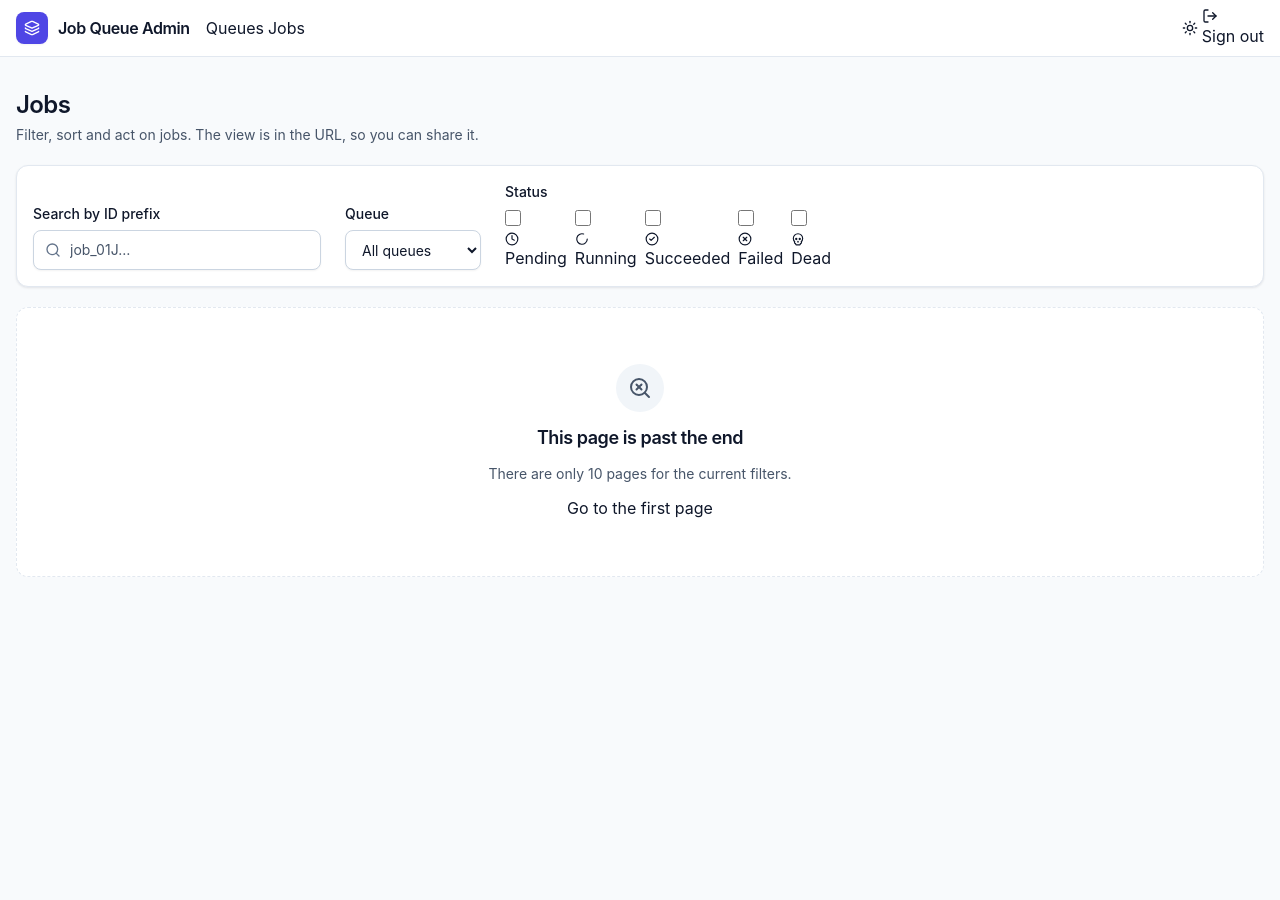
jobs list: loading and paging › offers a way back when the page is past the end
This screenshot has width=1280, height=900.
Expected: the heading "This page is past the end" is shown, [537,424,743,452]
Click the button "Go to the first page". click: click(640, 508)
box: [567,496,713,520]
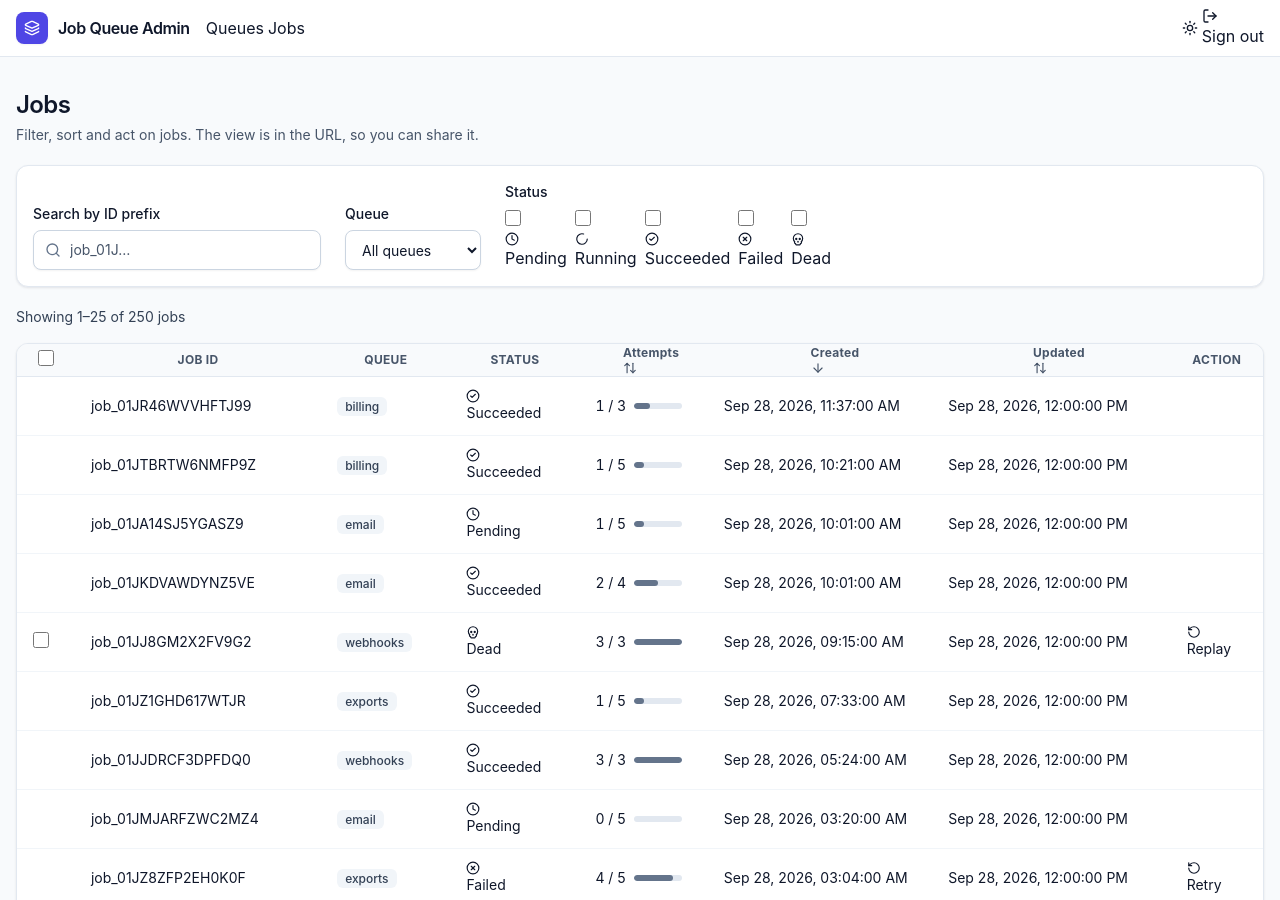
Result: the text "Showing 1–25 of 250 jobs" is shown at [16,308,185,325]
